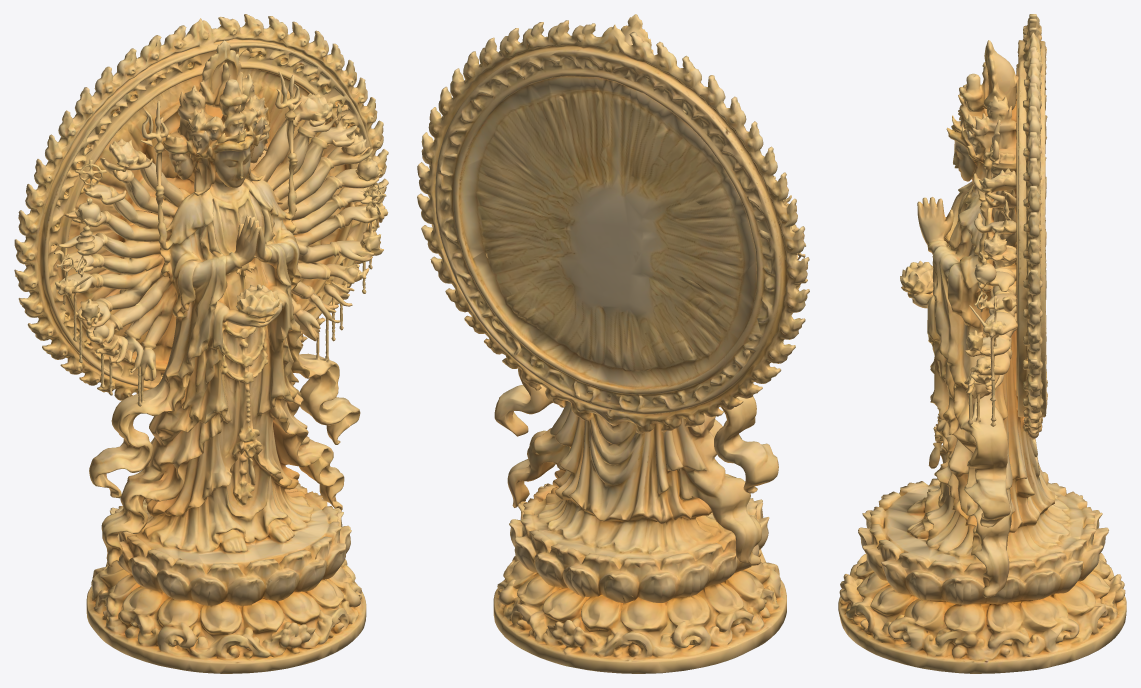
3 renders of one model, left to right at view 1: azimuth 30°, elevation 25°; view 2: azimuth 150°, elevation 25°; view 3: azimuth 270°, elevation 25°, orthographic. The views are drawn at different scales.
Parts seen in each view (by area): view 1: owner-collection20-19; view 2: owner-collection20-19; view 3: owner-collection20-19.
Part boxes in pixels (box(x1,y1,x2,y2)): owner-collection20-19: box(14, 14, 388, 673); owner-collection20-19: box(417, 14, 809, 673); owner-collection20-19: box(838, 14, 1126, 673).
Size of the model in its own units: 0.6722 by 0.9999 by 0.4486.
1 material, 1 textured.
